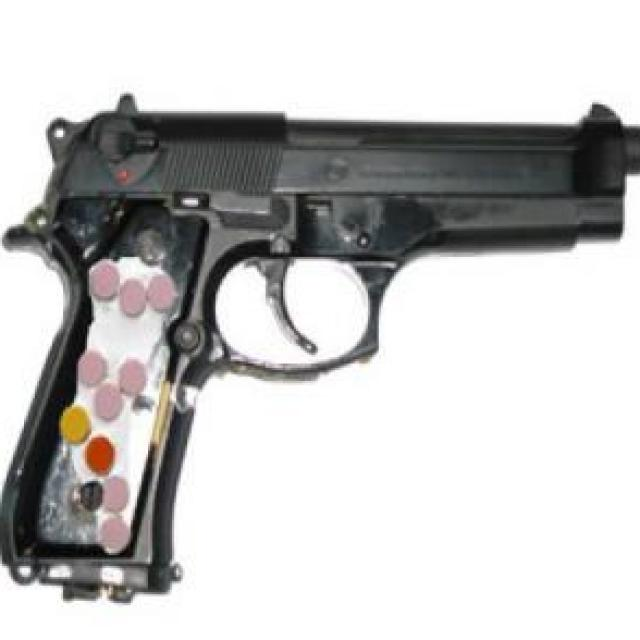pistol: (7, 104, 640, 611)
